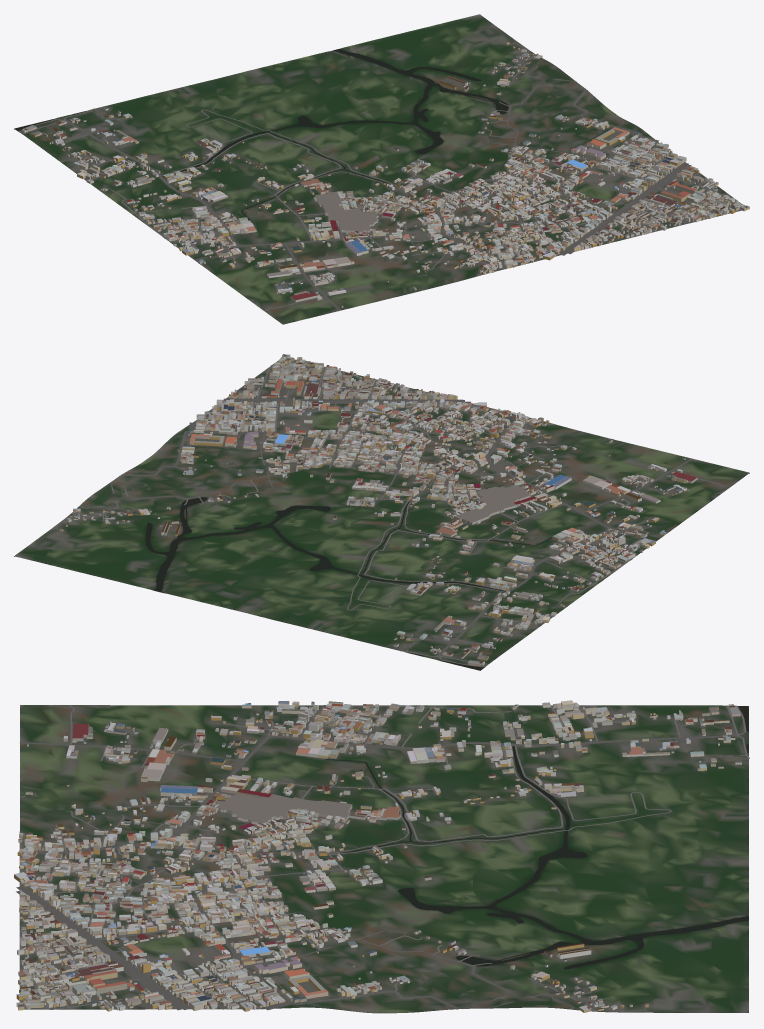
3 renders of one model, top to bottom at view 1: azimuth 30°, elevation 25°; view 2: azimuth 150°, elevation 25°; view 3: azimuth 270°, elevation 25°, orthographic. The views are drawn at different scales.
Parts seen in each view (by area): view 1: ground, buildings, roads, water; view 2: ground, buildings, roads, water; view 3: ground, buildings, roads, water.
Boxes of the visible parts, left/top/right/bottom form: ground: left=14, top=14, right=742, bottom=324; buildings: left=22, top=42, right=749, bottom=307; roads: left=18, top=54, right=740, bottom=311; water: left=15, top=48, right=508, bottom=222; ground: left=14, top=359, right=749, bottom=670; buildings: left=59, top=354, right=697, bottom=665; roads: left=70, top=359, right=731, bottom=666; water: left=145, top=497, right=552, bottom=670; ground: left=19, top=705, right=748, bottom=1013; buildings: left=14, top=700, right=741, bottom=1012; roads: left=16, top=705, right=749, bottom=1011; water: left=318, top=706, right=748, bottom=969.
Bounding box in the file's own units: 1416 × 29.48 × 1413.
